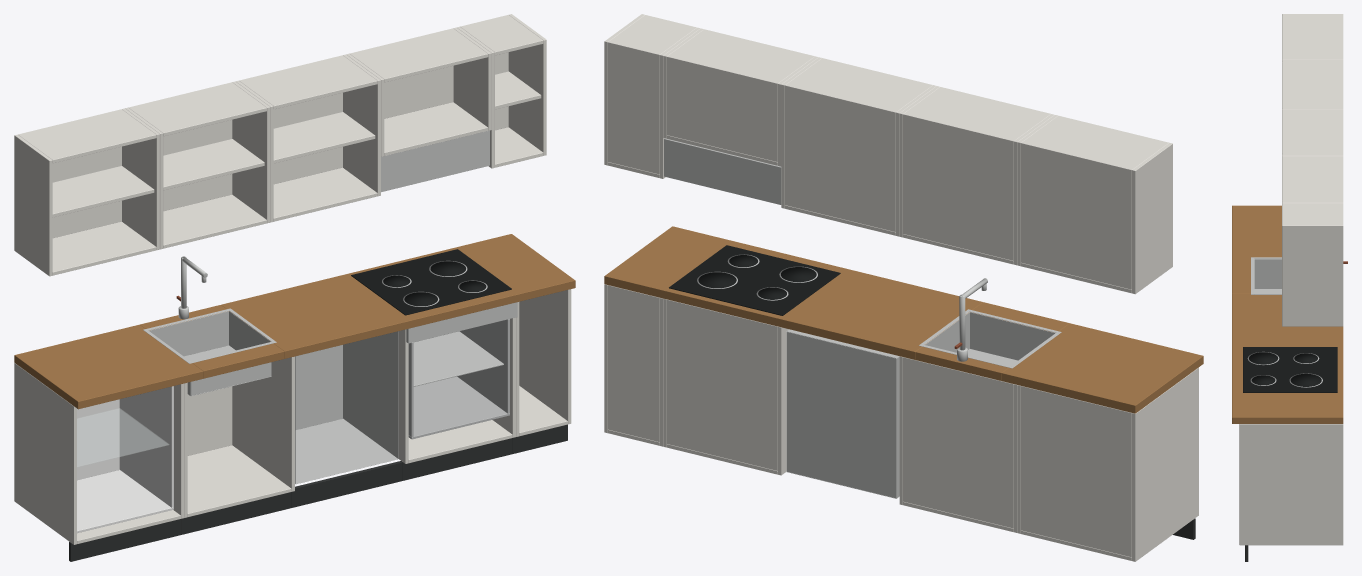
File: kitchen_run_appliances_body.glb
3 views of the same model, side by side, from view 1: azimuth 30°, elevation 25°; view 2: azimuth 150°, elevation 25°; view 3: azimuth 270°, elevation 25° (orthographic). The views are drawn at different scales.
Parts seen in each view (by area): view 1: kitchen_run_appliances_body; view 2: kitchen_run_appliances_body; view 3: kitchen_run_appliances_body.
Boxes of the visible parts, left/top/right/bottom form: kitchen_run_appliances_body: left=14, top=14, right=575, bottom=561; kitchen_run_appliances_body: left=604, top=14, right=1203, bottom=561; kitchen_run_appliances_body: left=1232, top=14, right=1347, bottom=561.
Bounding box in the file's own units: 2.7 × 2 × 0.625.
